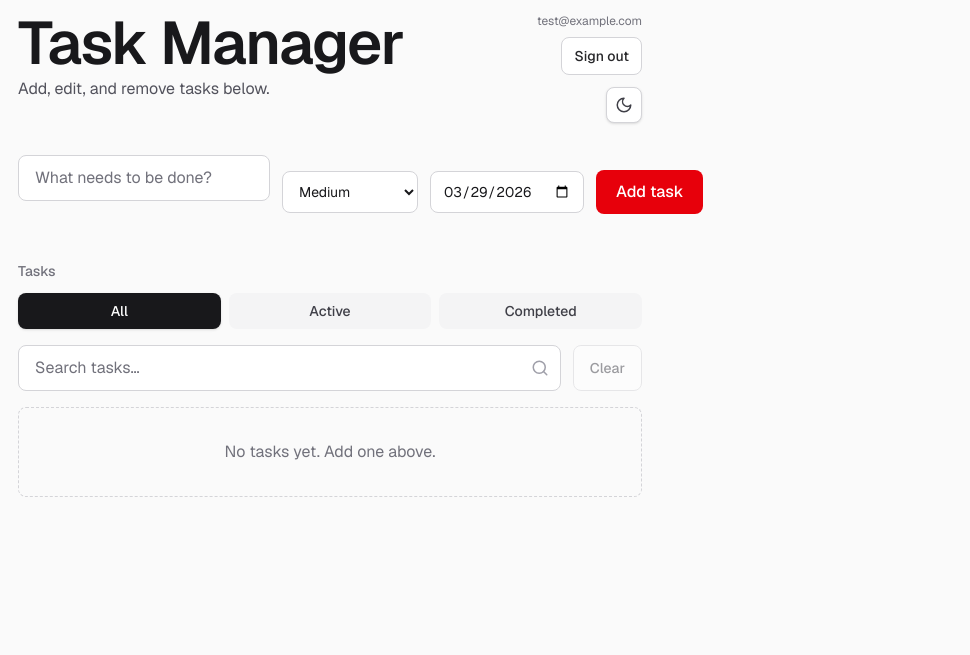
Scenario: Home task manager › exits edit mode when saving (no title change)
The width and height of the screenshot is (970, 655).
Step 1. Type "Old title" into the field named "Task title" → (144, 178), box [18, 155, 270, 201]
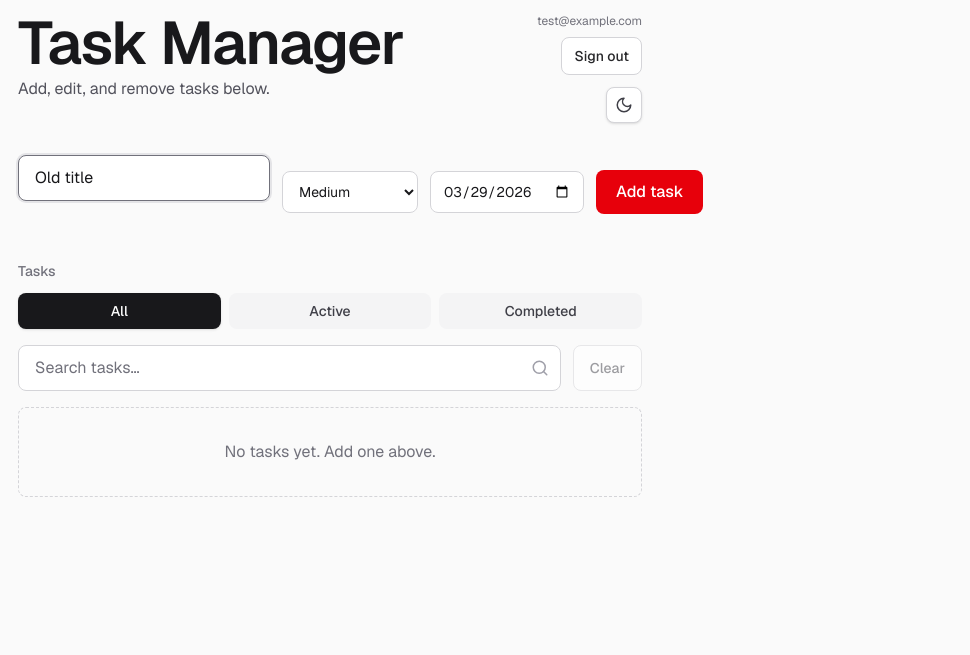
Step 2. Click the button "Add task" → (650, 192), box [596, 170, 703, 214]
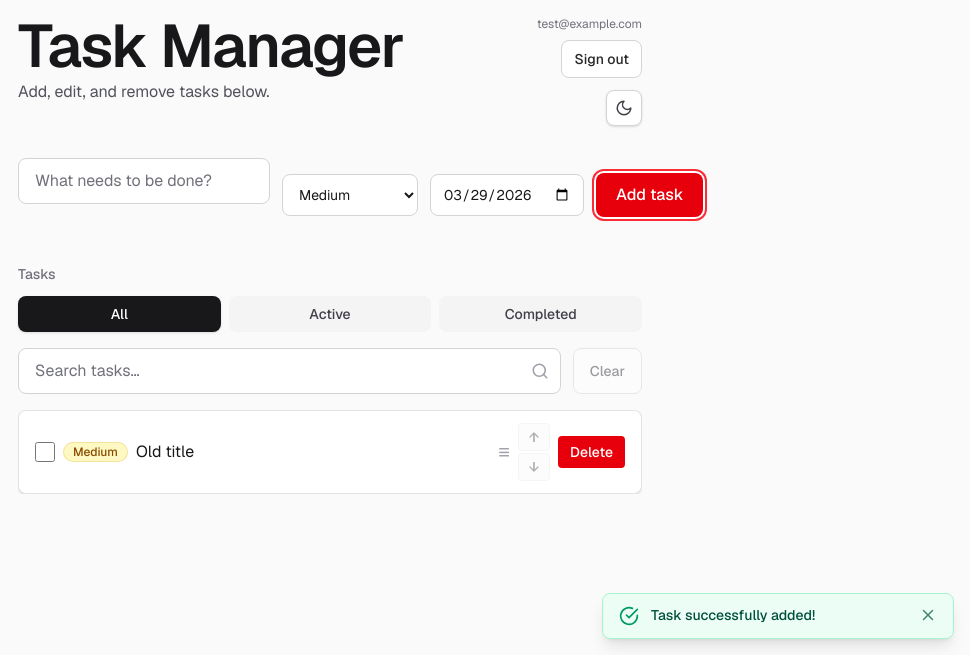
Step 3. Click the button named "Edit task \"Old title\"" → (165, 452), box [136, 441, 194, 462]
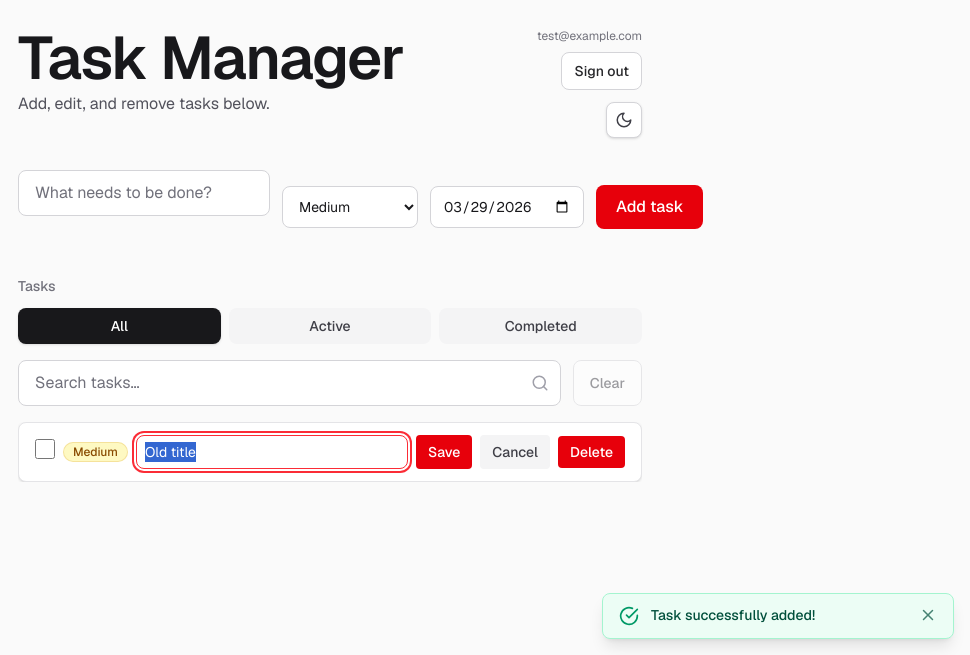
Step 4. Click the button "Save" → (444, 452), box [416, 435, 472, 469]
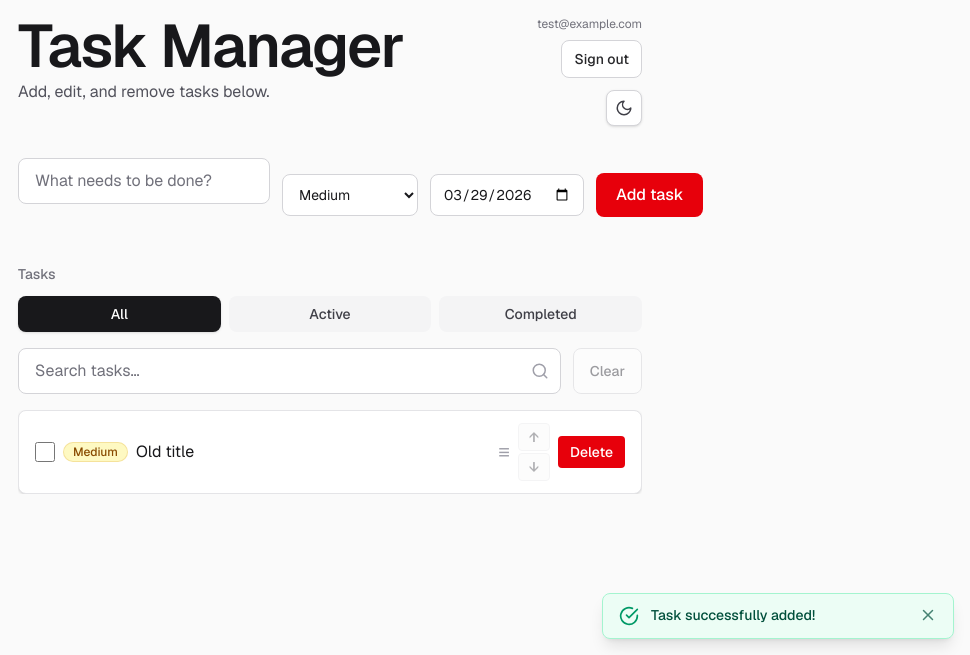
Check: the button "Old title" is shown, box [136, 441, 194, 462]
